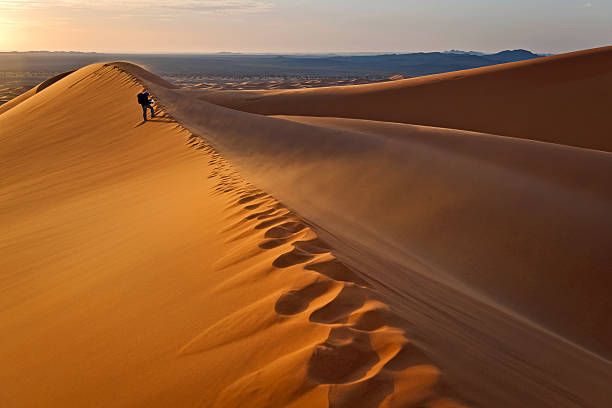human_foot_print: (183, 147, 460, 407)
